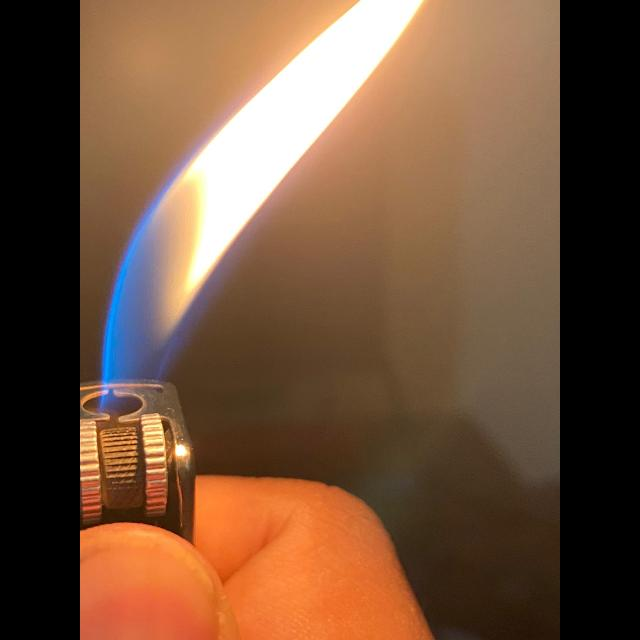fire: (102, 0, 424, 380)
